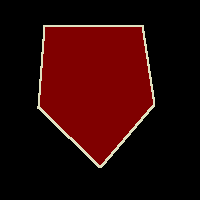tie: (38, 25, 154, 167)
